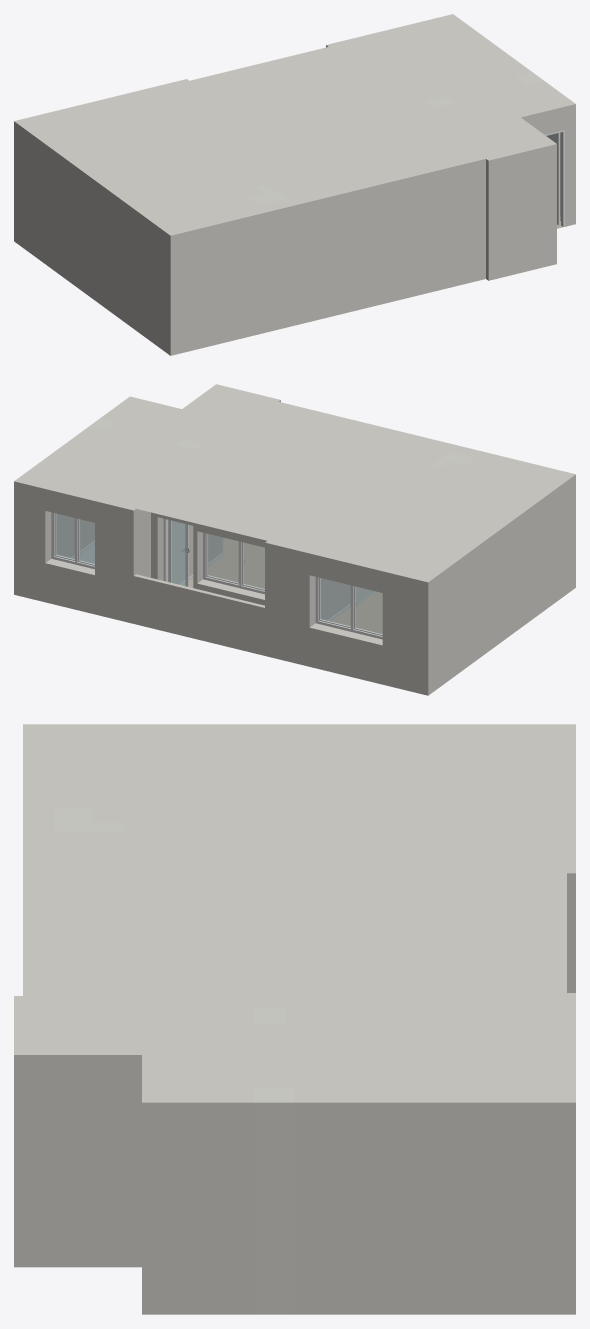
Rendered from apartment.glb.
3 renders of one model, top to bottom at view 1: azimuth 30°, elevation 25°; view 2: azimuth 150°, elevation 25°; view 3: azimuth 270°, elevation 25°, orthographic. The views are drawn at different scales.
Parts seen in each view (by area): view 1: South main party wall, West exterior, Living room ceiling, Bedroom ceiling, Pantry south party wall, Kitchen ceiling, Bathroom ceiling, Entrance hall ceiling, Bedroom north exterior, Apartment entrance boundary, Loggia ceiling, Living east divider (+7 smaller); view 2: Bedroom north exterior, West exterior, Living room ceiling, Kitchen north exterior, Bedroom ceiling, Kitchen ceiling, Loggia front parapet, Living north loggia wall, Bathroom ceiling, South main party wall, Living east divider, Entrance hall ceiling (+21 smaller); view 3: Kitchen east exterior, Living room ceiling, Bedroom ceiling, Kitchen ceiling, Entrance hall east boundary, Pantry east boundary, Bathroom ceiling, Kitchen north exterior, Entrance hall ceiling, Kitchen southeast stepped return, South main party wall, Pantry south party wall (+13 smaller).
Part boxes in pixels (x1=…): South main party wall: x1=161, y1=152, x2=485, y2=355; West exterior: x1=23, y1=124, x2=176, y2=348; Living room ceiling: x1=211, y1=64, x2=476, y2=187; Bedroom ceiling: x1=39, y1=89, x2=271, y2=190; Pantry south party wall: x1=480, y1=137, x2=556, y2=280; Kitchen ceiling: x1=352, y1=23, x2=523, y2=100; Bathroom ceiling: x1=132, y1=169, x2=260, y2=225; Entrance hall ceiling: x1=434, y1=82, x2=565, y2=128; Bedroom north exterior: x1=14, y1=80, x2=191, y2=247; Apartment entrance boundary: x1=518, y1=102, x2=575, y2=226; Loggia ceiling: x1=189, y1=47, x2=343, y2=91; Living east divider: x1=338, y1=47, x2=492, y2=153; Bedroom north exterior: x1=268, y1=537, x2=436, y2=695; West exterior: x1=422, y1=477, x2=567, y2=689; Living room ceiling: x1=156, y1=408, x2=406, y2=524; Kitchen north exterior: x1=14, y1=475, x2=138, y2=622; Bedroom ceiling: x1=287, y1=477, x2=507, y2=572; Kitchen ceiling: x1=31, y1=424, x2=195, y2=500; Loggia front parapet: x1=133, y1=574, x2=264, y2=655; Living north loggia wall: x1=148, y1=491, x2=292, y2=605; Bathroom ceiling: x1=421, y1=458, x2=552, y2=507; South main party wall: x1=270, y1=401, x2=575, y2=593; Living east divider: x1=127, y1=403, x2=271, y2=584; Entrance hall ceiling: x1=107, y1=400, x2=231, y2=443; Kitchen east exterior: x1=294, y1=1095, x2=544, y2=1314; Living room ceiling: x1=54, y1=870, x2=481, y2=995; Bedroom ceiling: x1=223, y1=737, x2=544, y2=860; Kitchen ceiling: x1=262, y1=1007, x2=544, y2=1094; Entrance hall east boundary: x1=151, y1=1096, x2=254, y2=1314; Pantry east boundary: x1=45, y1=1047, x2=150, y2=1267; Bathroom ceiling: x1=54, y1=737, x2=213, y2=818; Kitchen north exterior: x1=544, y1=996, x2=575, y2=1314; Entrance hall ceiling: x1=151, y1=1007, x2=254, y2=1095; Kitchen southeast stepped return: x1=254, y1=1087, x2=293, y2=1314; South main party wall: x1=23, y1=724, x2=54, y2=995; Pantry south party wall: x1=14, y1=996, x2=45, y2=1267.
Bounding box in the file's own units: 9.94 × 2.6 × 6.24.
